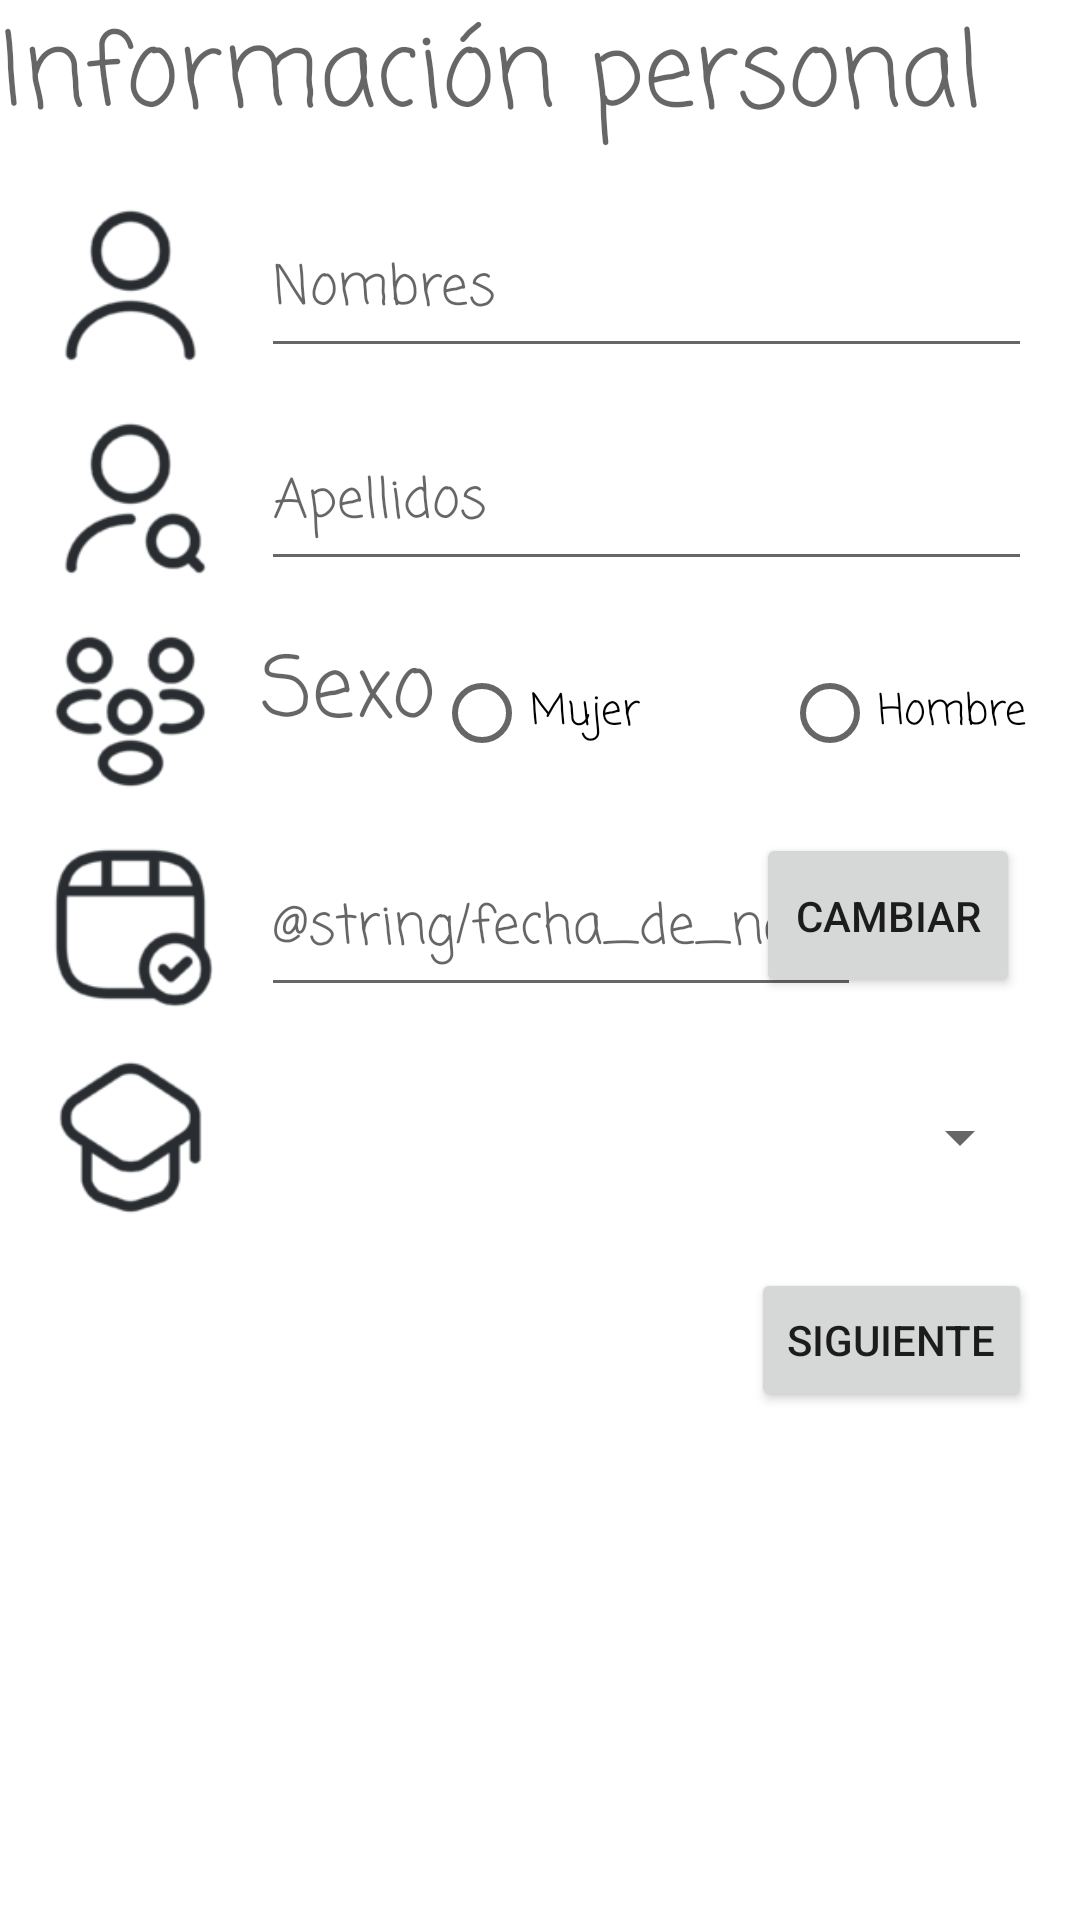

Icon click points for this 1080w x 1920h phone screenshot, format (x,y):
Classe: (130,1137)
